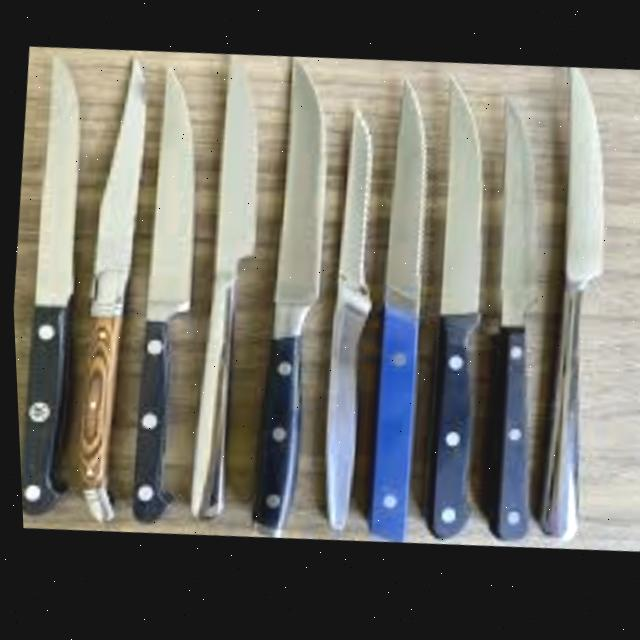Knife: (226, 57, 348, 545), (514, 72, 628, 551), (52, 53, 164, 524), (398, 77, 510, 545), (166, 54, 276, 525), (108, 63, 219, 527), (454, 99, 566, 549), (344, 80, 448, 550), (2, 53, 102, 517), (298, 109, 394, 537)
